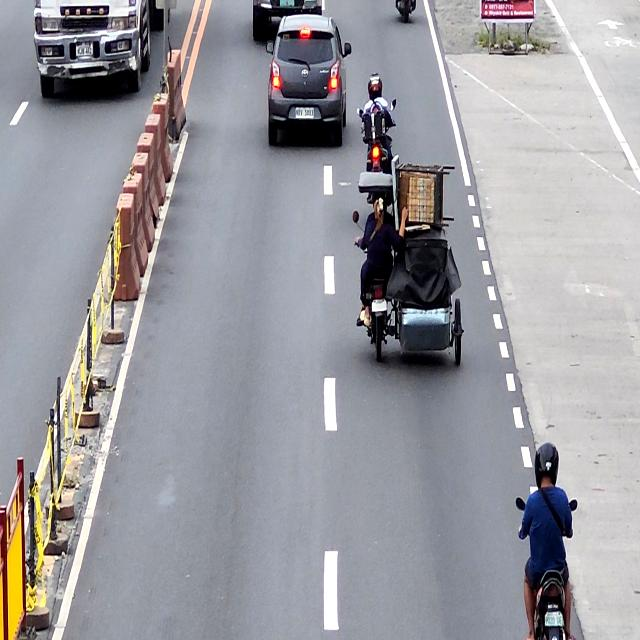Car: (266, 15, 350, 146)
License-Plate: (543, 612, 564, 628), (294, 106, 315, 120), (371, 299, 388, 312)
Motorcycle: (517, 487, 577, 640), (357, 102, 398, 175)
Tricycle: (356, 169, 465, 364)
